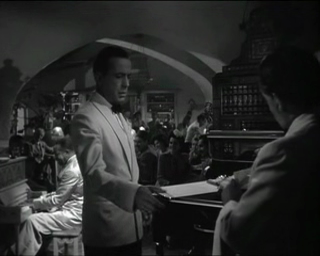face: (210, 43, 320, 256), (109, 67, 132, 104)
mls: (1, 1, 320, 256)
person: (70, 46, 170, 256), (14, 134, 85, 256)
